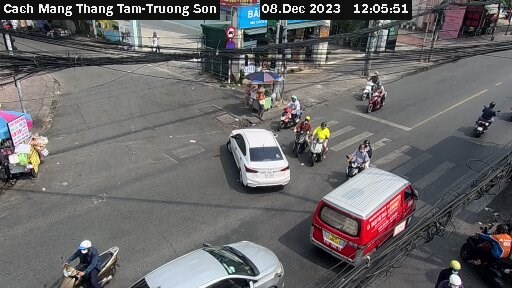car: (307, 167, 419, 265), (130, 240, 293, 288), (224, 120, 297, 189)
motorbike: (32, 237, 119, 288), (460, 219, 512, 282), (337, 142, 384, 174), (308, 126, 346, 161), (468, 102, 503, 134), (276, 97, 311, 125), (285, 120, 317, 149), (355, 73, 387, 96), (366, 88, 391, 116)
